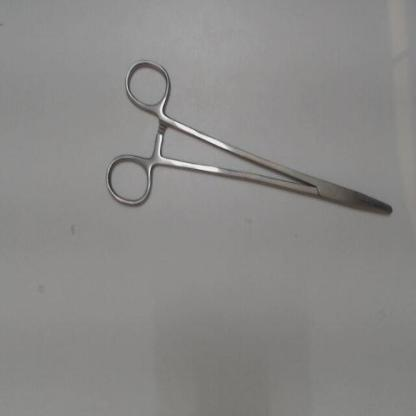8 Mayo Needle Holder: (95, 49, 401, 227)
